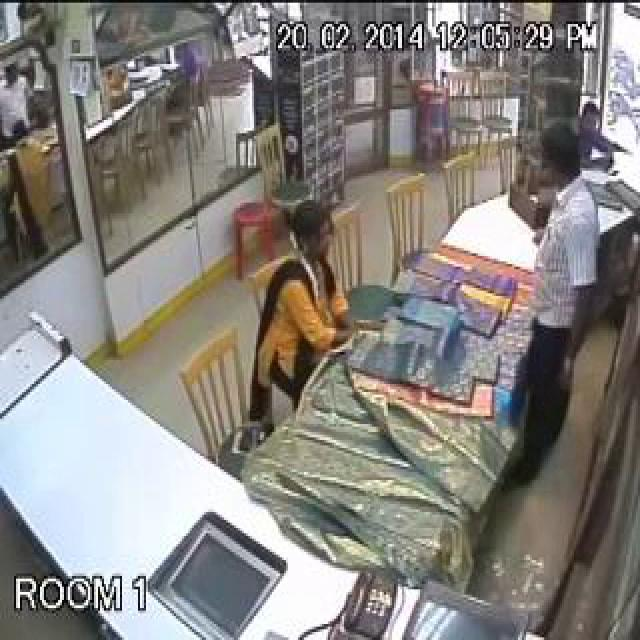shoplifting: (219, 82, 500, 639)
